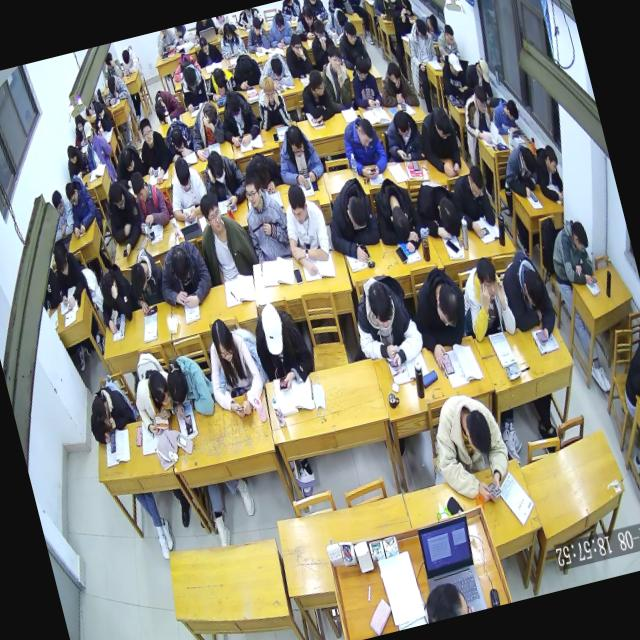bow: (494, 242, 562, 350), (316, 170, 386, 266), (150, 235, 217, 316), (365, 170, 425, 258), (158, 348, 218, 424), (80, 378, 142, 448), (409, 172, 466, 246), (128, 362, 182, 438), (120, 239, 170, 315), (196, 144, 250, 213), (372, 55, 421, 114), (496, 140, 544, 200), (294, 64, 338, 125), (528, 142, 568, 208), (240, 147, 286, 199), (108, 141, 148, 191), (252, 49, 296, 94), (160, 114, 198, 164), (226, 47, 266, 93), (202, 62, 239, 104), (150, 84, 184, 126), (166, 46, 202, 82), (320, 4, 352, 41), (87, 96, 116, 136), (98, 69, 130, 104), (420, 8, 442, 40)
down: (428, 276, 466, 332), (459, 405, 497, 461), (254, 298, 290, 357), (362, 277, 398, 333), (161, 358, 194, 409), (518, 262, 551, 312), (207, 314, 238, 365), (284, 180, 312, 228), (342, 191, 372, 234), (167, 243, 195, 287), (429, 103, 456, 142), (88, 394, 114, 434), (171, 155, 196, 196), (462, 162, 488, 200), (248, 154, 273, 192), (568, 217, 592, 256), (222, 87, 246, 125), (204, 148, 228, 186), (284, 121, 308, 159), (352, 114, 377, 150), (96, 267, 120, 304), (126, 261, 150, 296), (128, 170, 150, 205), (518, 141, 540, 176), (106, 178, 128, 212), (391, 106, 413, 140), (470, 83, 492, 117), (51, 246, 72, 280), (542, 141, 562, 176), (198, 99, 220, 130), (258, 74, 278, 105), (48, 186, 68, 216), (62, 180, 82, 210), (180, 63, 200, 93), (118, 142, 138, 172), (444, 49, 464, 79), (236, 50, 255, 80), (311, 15, 329, 46), (168, 122, 186, 152), (342, 20, 361, 48), (268, 55, 286, 83), (210, 64, 228, 90), (412, 14, 429, 41), (474, 54, 490, 82), (299, 1, 316, 27), (504, 98, 520, 124), (442, 21, 456, 48), (332, 8, 348, 30), (250, 14, 264, 38), (272, 10, 287, 32), (64, 144, 78, 166), (220, 22, 234, 44), (105, 75, 119, 96), (102, 50, 116, 70), (73, 112, 86, 133), (92, 99, 105, 120), (119, 47, 132, 67), (198, 34, 210, 54), (398, 0, 410, 7)
lookup: (472, 254, 503, 304), (198, 188, 225, 234), (323, 40, 344, 73), (136, 115, 156, 146), (287, 30, 306, 60), (80, 119, 96, 144)
sit: (422, 384, 518, 513), (342, 268, 428, 377), (194, 310, 272, 428), (405, 261, 481, 374), (244, 292, 317, 394), (188, 185, 260, 286), (274, 176, 338, 282), (451, 252, 518, 346), (234, 167, 296, 266), (540, 214, 600, 294), (412, 100, 466, 182), (268, 118, 327, 191), (98, 174, 148, 259), (448, 162, 500, 242), (159, 151, 214, 226), (336, 110, 391, 184), (90, 258, 140, 332), (124, 166, 174, 237), (212, 84, 264, 150), (131, 112, 176, 188), (182, 96, 231, 164), (380, 104, 430, 170), (48, 238, 92, 312), (313, 40, 357, 112), (455, 81, 500, 148), (60, 172, 105, 238), (343, 51, 385, 114), (250, 72, 292, 134), (333, 17, 373, 74), (77, 112, 116, 168), (612, 338, 640, 415), (402, 14, 439, 72), (303, 14, 339, 72), (174, 58, 212, 112), (44, 186, 78, 241), (280, 30, 316, 81), (434, 50, 469, 100), (488, 92, 524, 140), (462, 54, 496, 102), (262, 7, 298, 51), (215, 18, 248, 61), (289, 1, 322, 43), (61, 140, 92, 183), (432, 21, 462, 65), (240, 15, 272, 56), (190, 29, 223, 67), (96, 46, 125, 85), (116, 41, 142, 76), (388, 4, 414, 39), (68, 110, 92, 146), (367, 0, 395, 22), (392, 0, 413, 18)
